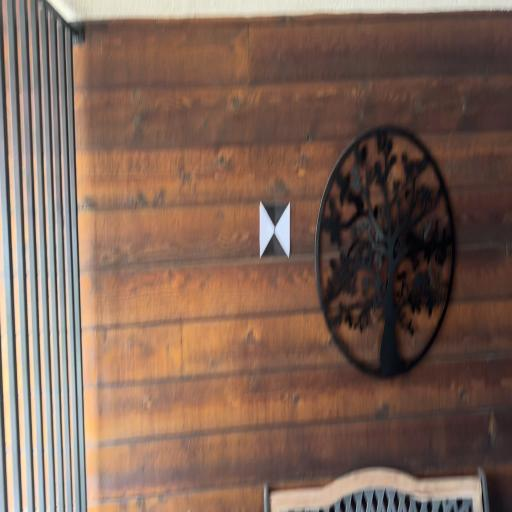target: (260, 202, 288, 256)
